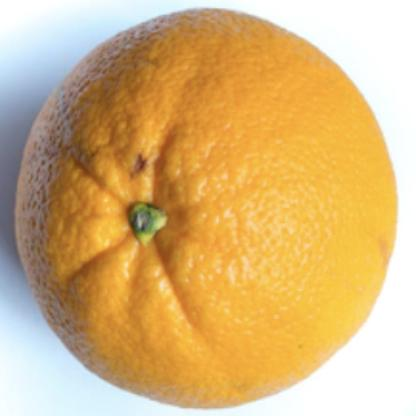fresh: (17, 10, 395, 408)
